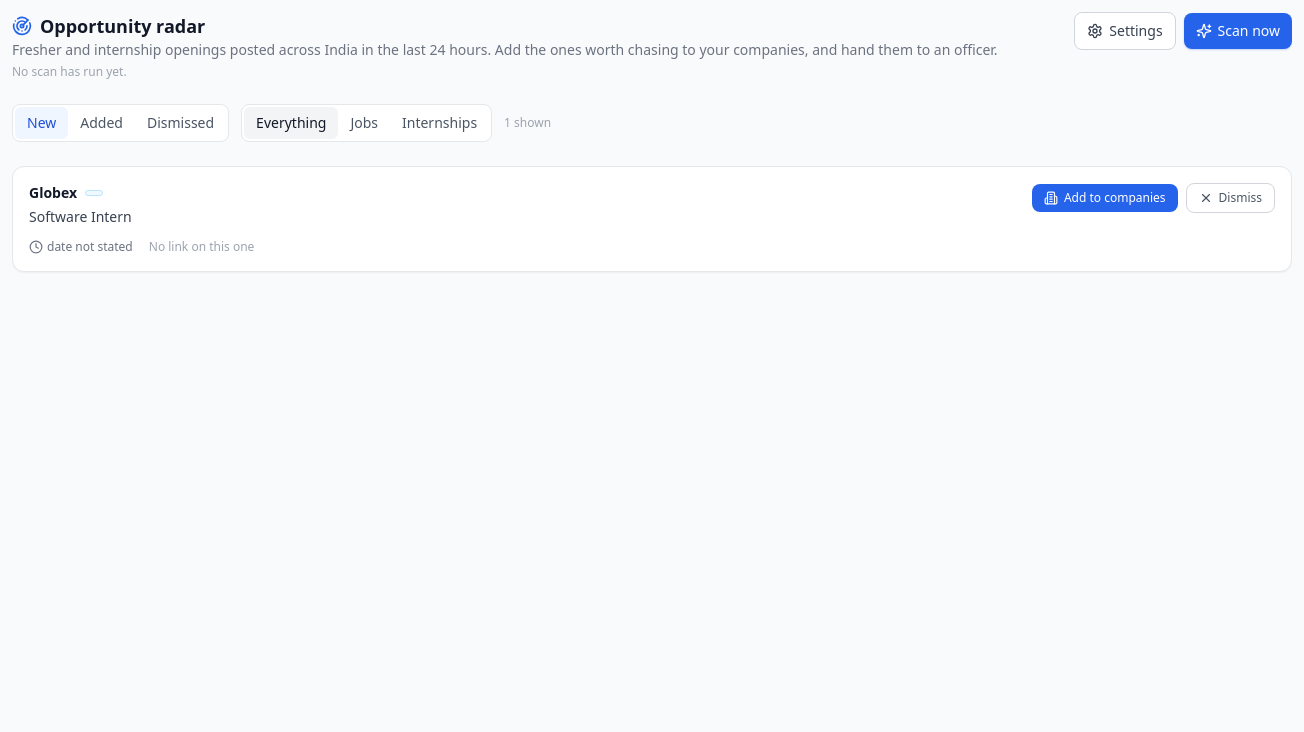
it: running a scan › says so when the search itself found nothing
The width and height of the screenshot is (1304, 732).
Check: the heading "Globex" is shown, box [29,183,77,203]
Click the button "Scan now" at x=1238, y=31, box [1184,13,1292,49]
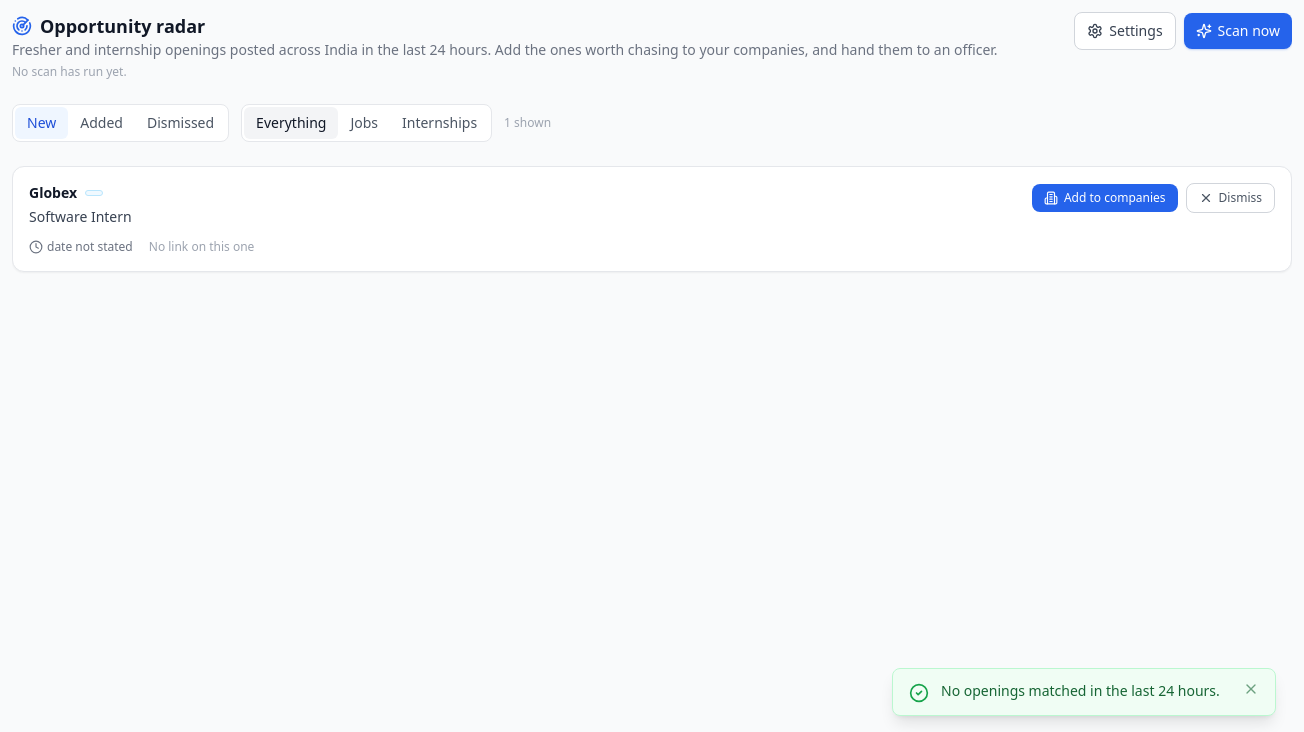
Check: the text "No openings matched in the last 24 hours." is shown, box [941,681,1231,700]
